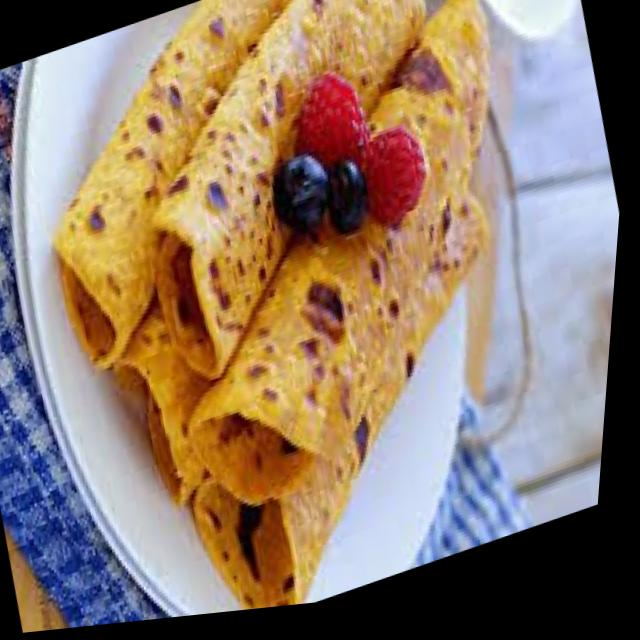CHAPATHI: (54, 0, 496, 610)
